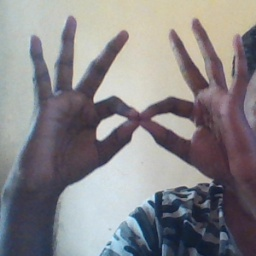B: (89, 67, 201, 165)
